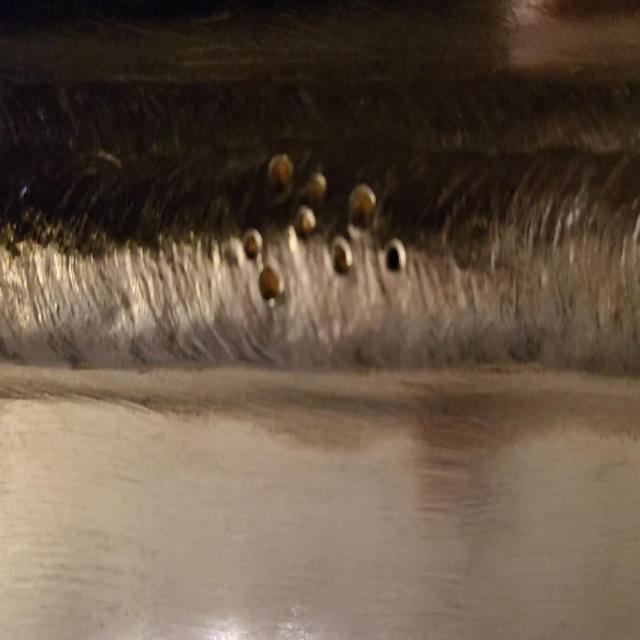Welding Line: (3, 126, 640, 364)
porosity: (222, 152, 408, 304)
